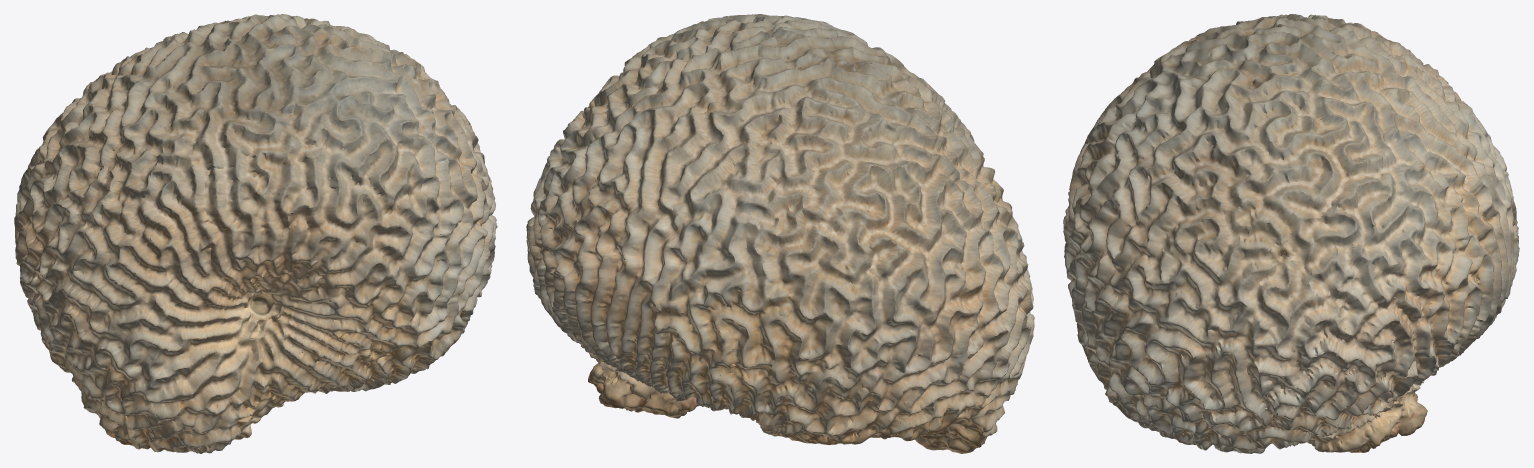
The model's file is hard_brain_coral_nhmw-zoo-ev-0000221.glb.
3 views of the same model, side by side, from view 1: azimuth 30°, elevation 25°; view 2: azimuth 150°, elevation 25°; view 3: azimuth 270°, elevation 25° (orthographic). The views are drawn at different scales.
Parts seen in each view (by area): view 1: Object_3, Object_2; view 2: Object_3, Object_2; view 3: Object_3, Object_2.
Part boxes in pixels (<box>): Object_3: <box>14,14,496,444</box>; Object_2: <box>14,14,497,453</box>; Object_3: <box>526,14,1034,438</box>; Object_2: <box>528,14,1029,453</box>; Object_3: <box>1063,14,1512,433</box>; Object_2: <box>1117,42,1519,453</box>.
Size of the model in its own units: 129 by 107 by 111.
1 material, 1 textured.
